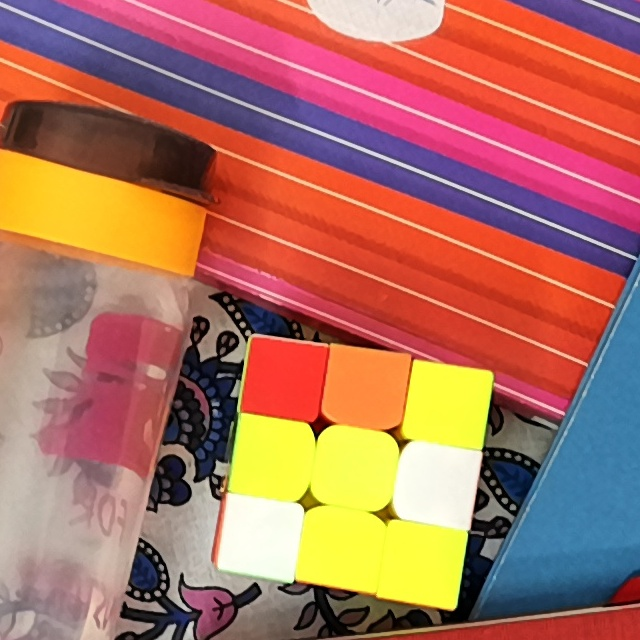tile: (415, 371, 480, 437), (388, 533, 453, 598), (331, 357, 399, 419), (310, 516, 374, 580), (323, 435, 387, 497), (253, 345, 315, 408), (244, 426, 302, 490), (408, 456, 468, 515), (229, 508, 290, 566)
